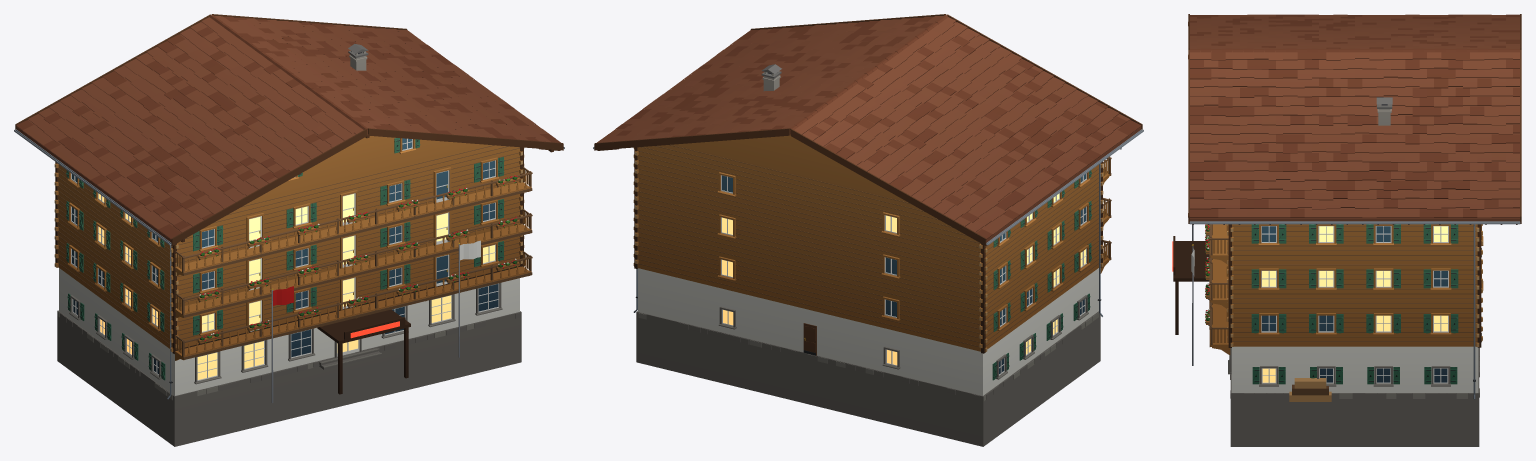
The model's file is Hotel_Chalet.fbx.
3 views of the same model, side by side, from view 1: azimuth 30°, elevation 25°; view 2: azimuth 150°, elevation 25°; view 3: azimuth 270°, elevation 25° (orthographic). The views are drawn at different scales.
Parts seen in each view (by area): view 1: Hotel_Chalet_LOD0; view 2: Hotel_Chalet_LOD0; view 3: Hotel_Chalet_LOD0.
Boxes of the visible parts, x1=… form: Hotel_Chalet_LOD0: x1=14, y1=14, x2=564, y2=446; Hotel_Chalet_LOD0: x1=593, y1=14, x2=1143, y2=446; Hotel_Chalet_LOD0: x1=1172, y1=14, x2=1521, y2=446.
Size of what is drawn, in the model's own units: 27.48 by 19.28 by 19.81.
1 material, 1 textured.
